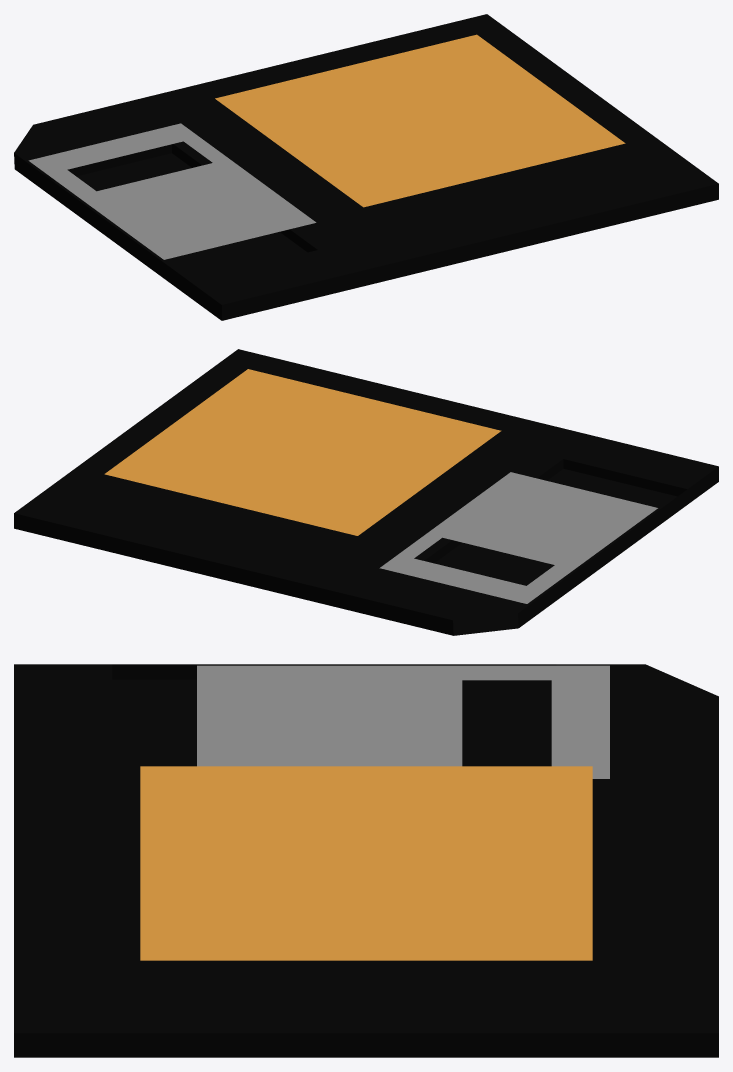
Rendered from Floppy2.fbx.
3 views of the same model, one above another, from view 1: azimuth 30°, elevation 25°; view 2: azimuth 150°, elevation 25°; view 3: azimuth 270°, elevation 25° (orthographic). The views are drawn at different scales.
Visible parts, largest first — view 1: Cube; view 2: Cube; view 3: Cube.
Part boxes in pixels (<box>): Cube: <box>14,14,718,320</box>; Cube: <box>14,349,718,635</box>; Cube: <box>14,664,718,1057</box>.
Bounding box in the file's own units: 319 × 23.53 × 258.
